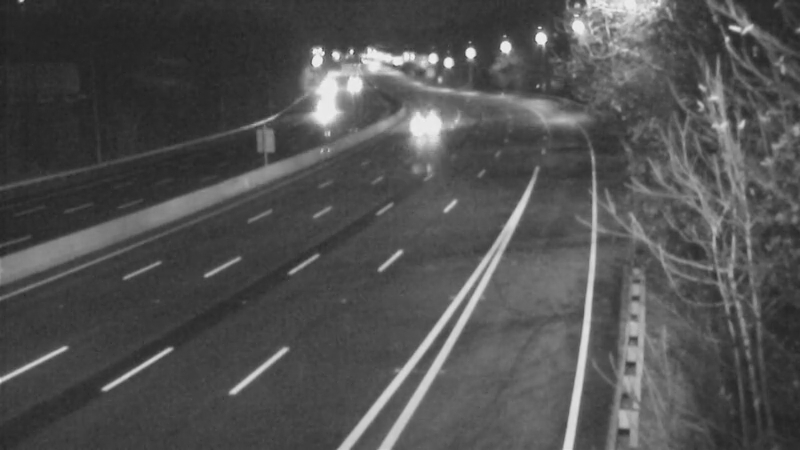vehicle: (404, 94, 454, 144), (290, 88, 340, 138), (329, 61, 379, 111)
